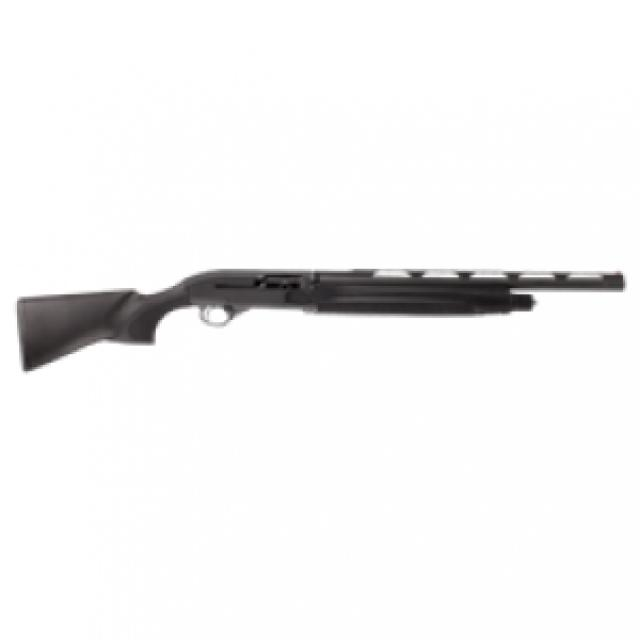rifle: (10, 263, 630, 374)
